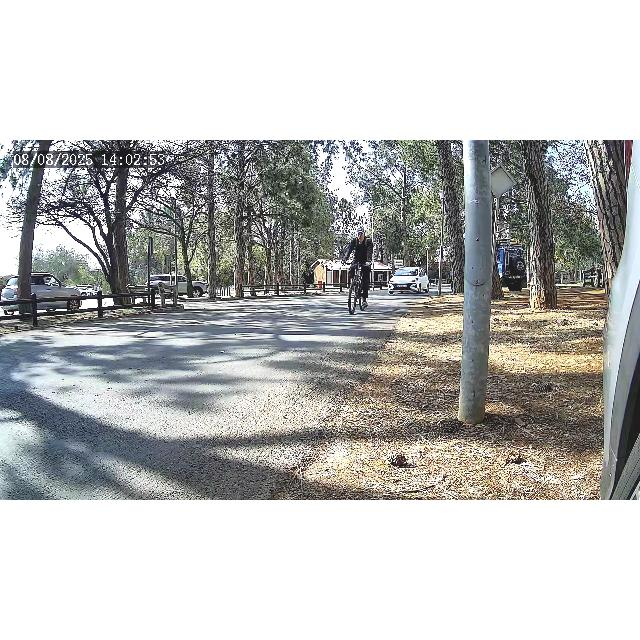car: (390, 267, 430, 295)
